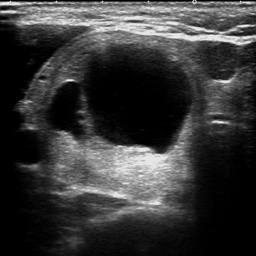mass: (85, 43, 197, 155)
